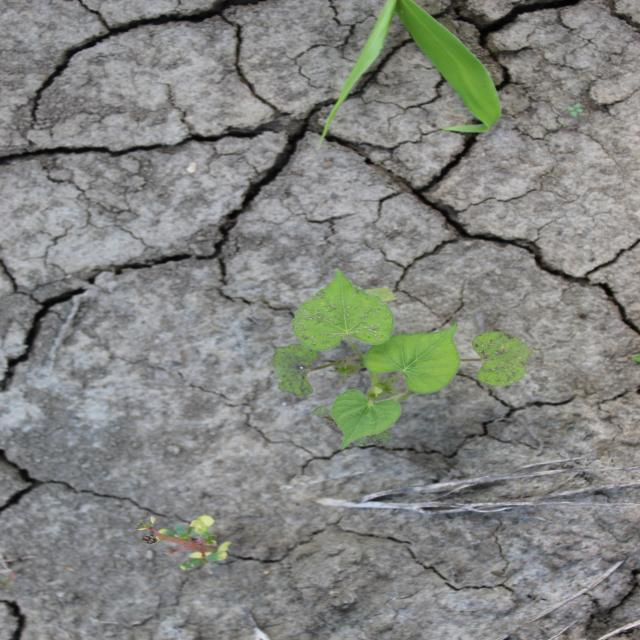MorningGlory: (270, 266, 537, 452)
Purslane: (137, 514, 233, 572)
